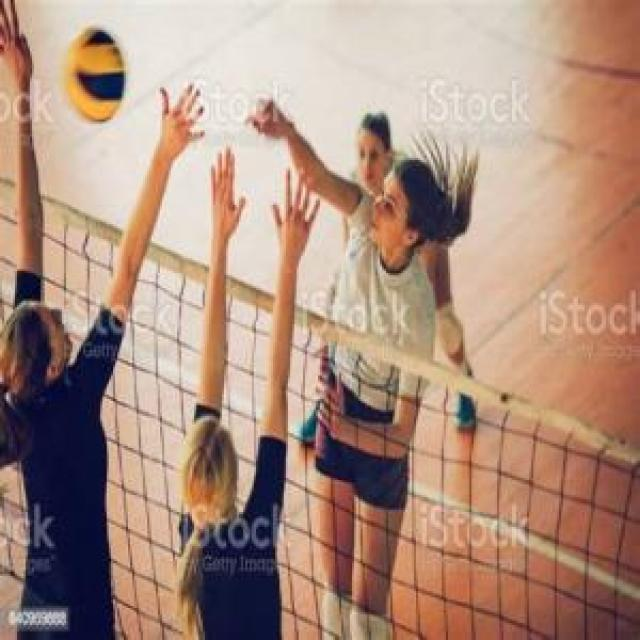volleyball: (63, 28, 125, 124)
